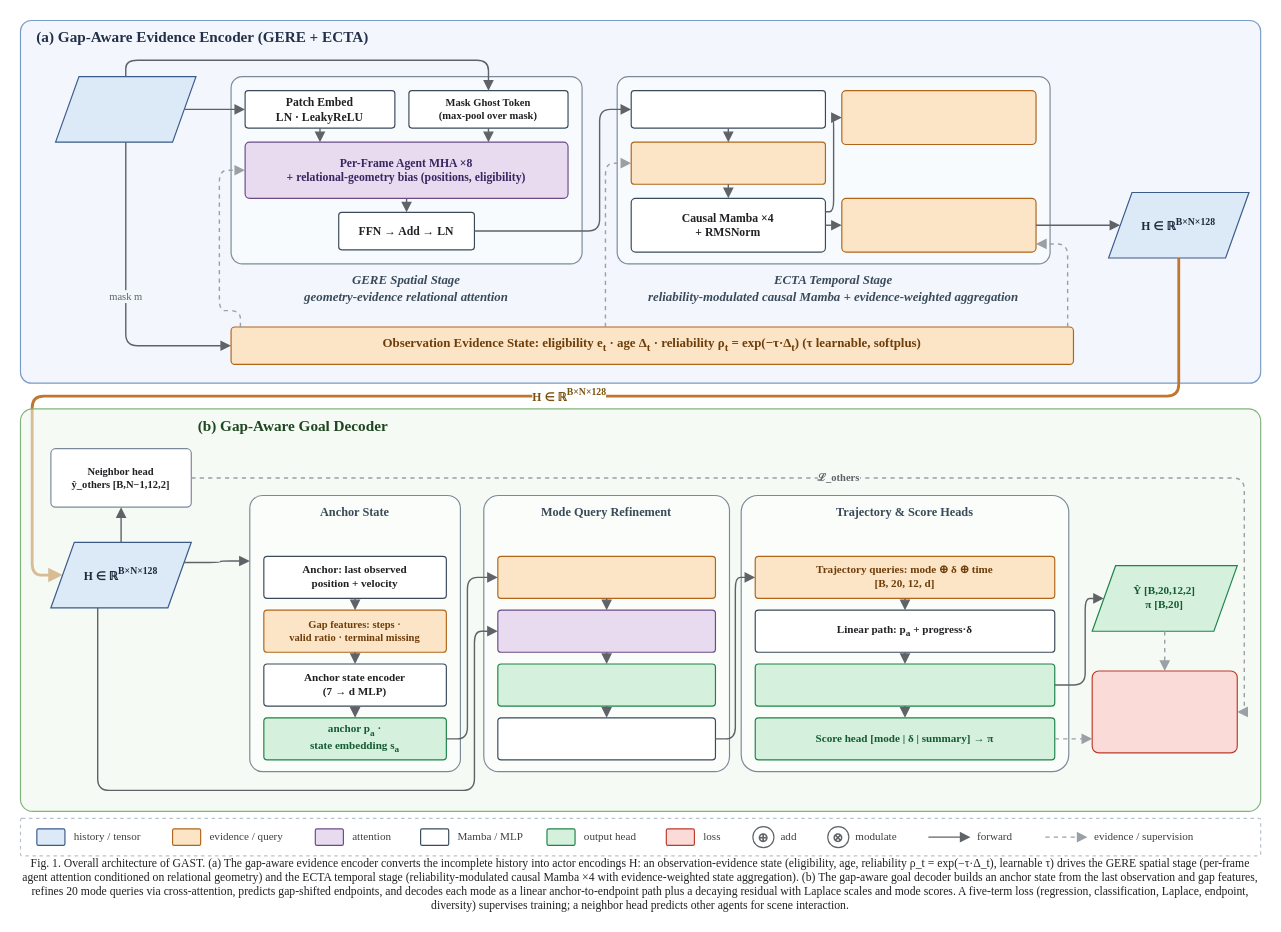
Some shapes in this 1281 by 932 pixel diagram are drawn without their labels. The shapes that lost their labels are listed below. From the top down, each one's centre as x and y in pixels, then its label:
At point 125,108: "Gap-corrupted history Δp, Δv, m ∈ ℝ B×N×8×4".
At point 727,109: "Temporal MLP LN · LeakyReLU".
At point 938,117: "softmax(s t + β·log ρ t ) (content score s t = u·h t )".
At point 727,162: "⊗ reliability ρ t".
At point 938,224: "⊕ r T ·h T + (1−r T )·Σ w t h t".
At point 606,576: "20 mode embeddings ⊕ focal h 0 ⊕ s a".
At point 606,630: "Cross-Attn ×2 (K/V = H)".
At point 606,684: "Endpoint head → goal δ (endpoints = p a + δ)".
At point 904,684: "Residual head ×(1−progress) · Laplace scale head".
At point 1164,711: "ℒ = ℒ_reg + ℒ_cls + ℒ_Lap + ℒ_ep + λ·ℒ_div".
At point 606,738: "⊕ endpoint emb & gap-shifted time emb".
